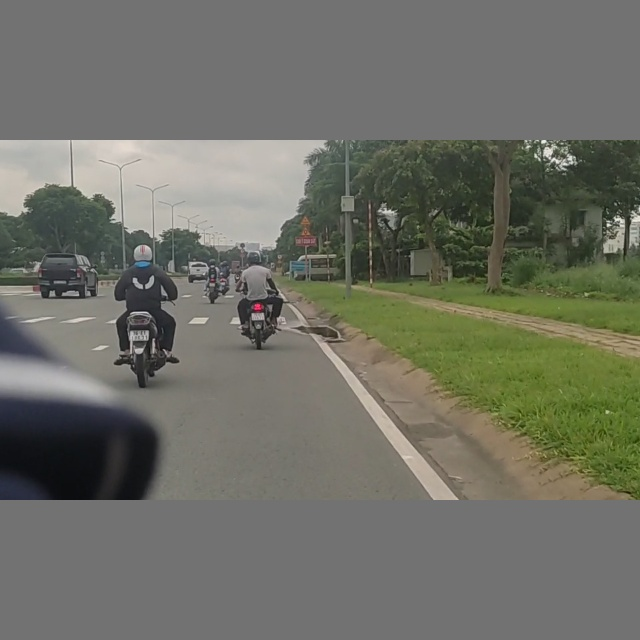P.130: (240, 243, 245, 248)
W.245a: (300, 215, 312, 225)
W.246a: (301, 227, 312, 237)
